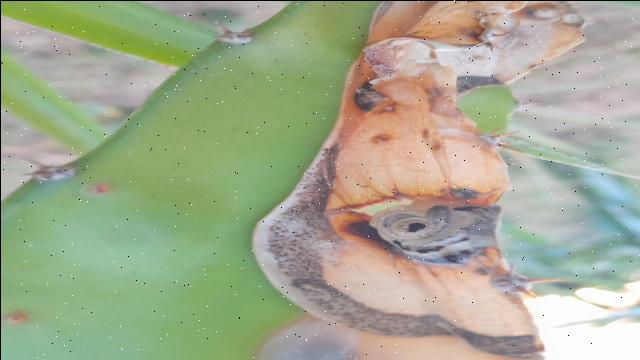stemcanker: (64, 179, 118, 202), (2, 307, 41, 330)
